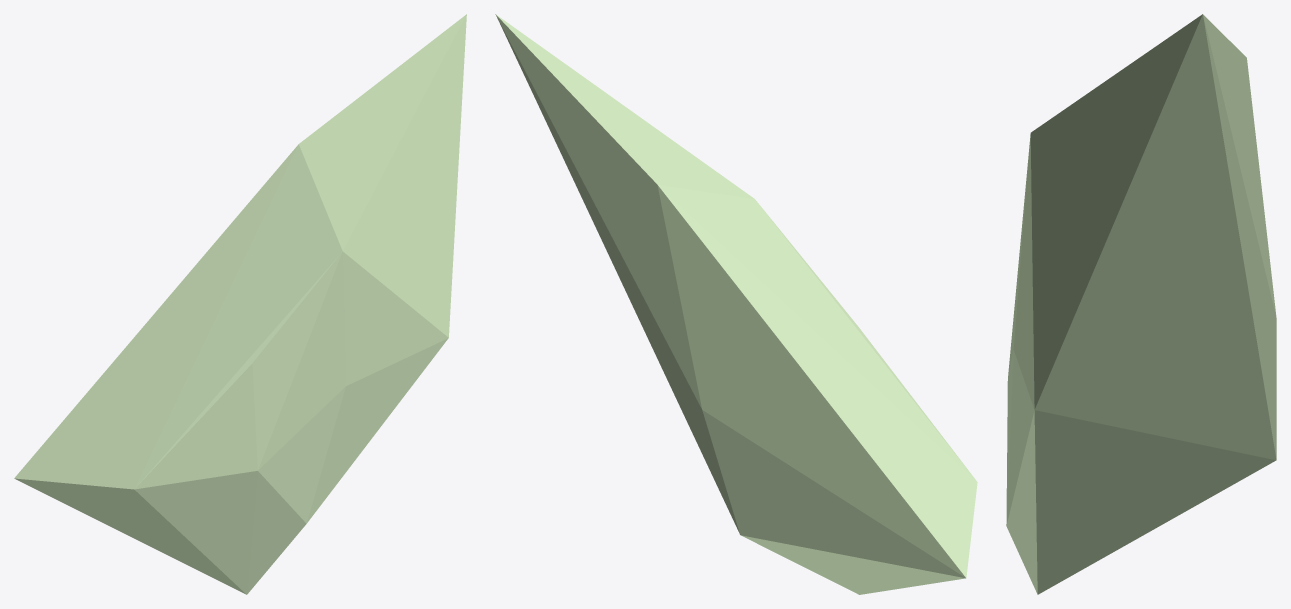
The model's file is kuka_URDF_robot_base_coll_2.dae.
3 views of the same model, side by side, from view 1: azimuth 30°, elevation 25°; view 2: azimuth 150°, elevation 25°; view 3: azimuth 270°, elevation 25° (orthographic). The views are drawn at different scales.
Parts seen in each view (by area): view 1: Node_0000020FCC592AD0; view 2: Node_0000020FCC592AD0; view 3: Node_0000020FCC592AD0.
Part boxes in pixels (x1,y1,x2,y2): Node_0000020FCC592AD0: [14, 14, 466, 594]; Node_0000020FCC592AD0: [495, 14, 977, 594]; Node_0000020FCC592AD0: [1006, 14, 1276, 594].
Size of the model in its own units: 0.0415 by 0.0439 by 0.0134.
